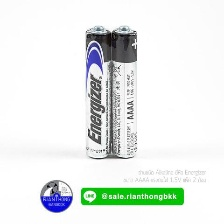battery: (82, 23, 114, 158), (109, 23, 139, 159)
